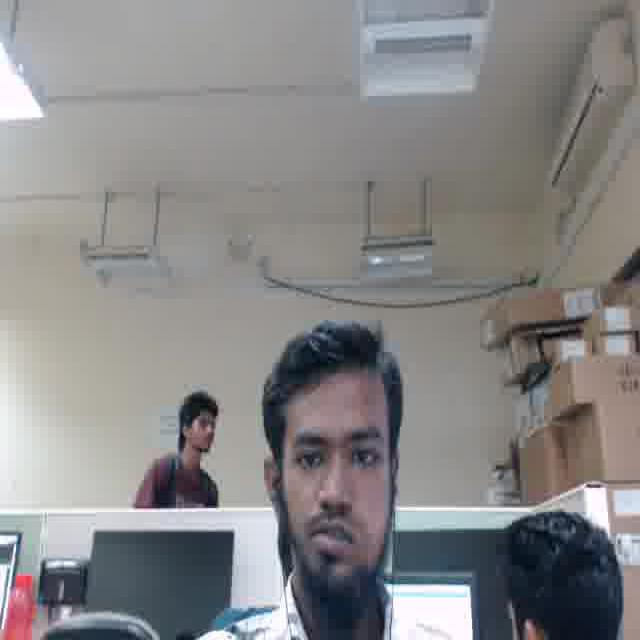Engaged: (281, 381, 392, 580)
